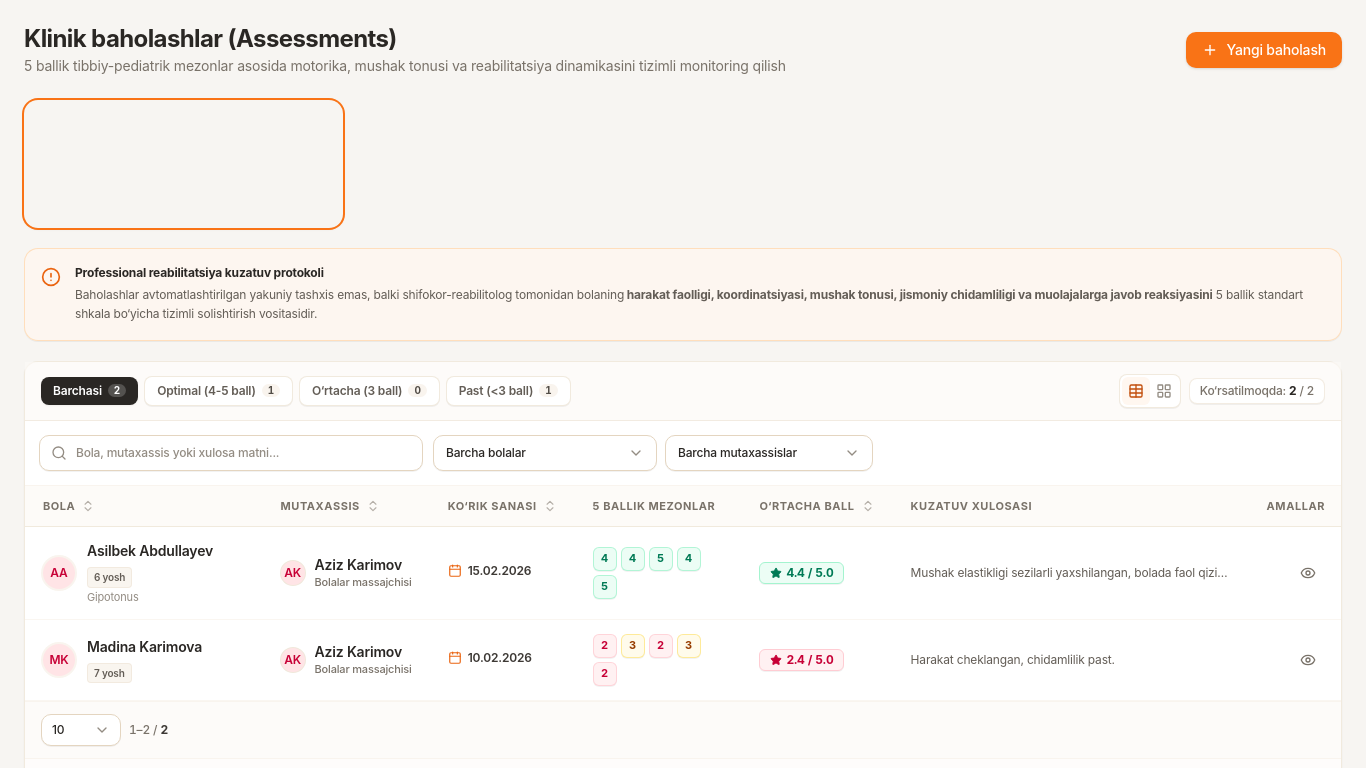
Test: AssessmentsPage Component › toggles between Table view and Cards view
Expected: the text "5 ballik mezonlar" is shown, [593,498,715,514]
// Switch to cards view
What coordinates should you click on to do the following:
click the button titled "Karta ko'rinishi"
I would click on:
 (1164, 391)
Its box is [1150,377,1178,405].
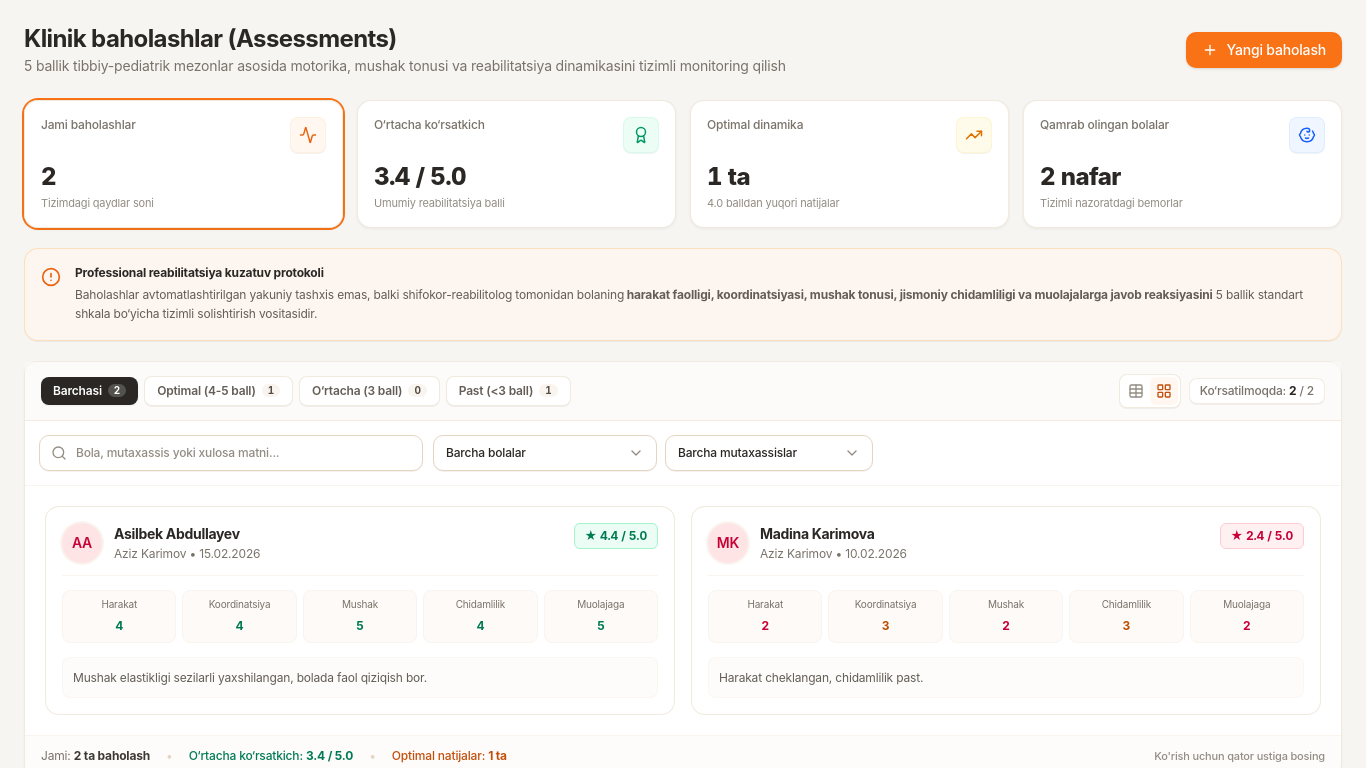
Expected: the text "Mushak elastikligi sezilarli yaxshilangan, bolada faol qiziqish bor." is shown, [62,657,658,698]
Result: the text "5 ballik mezonlar" is gone
